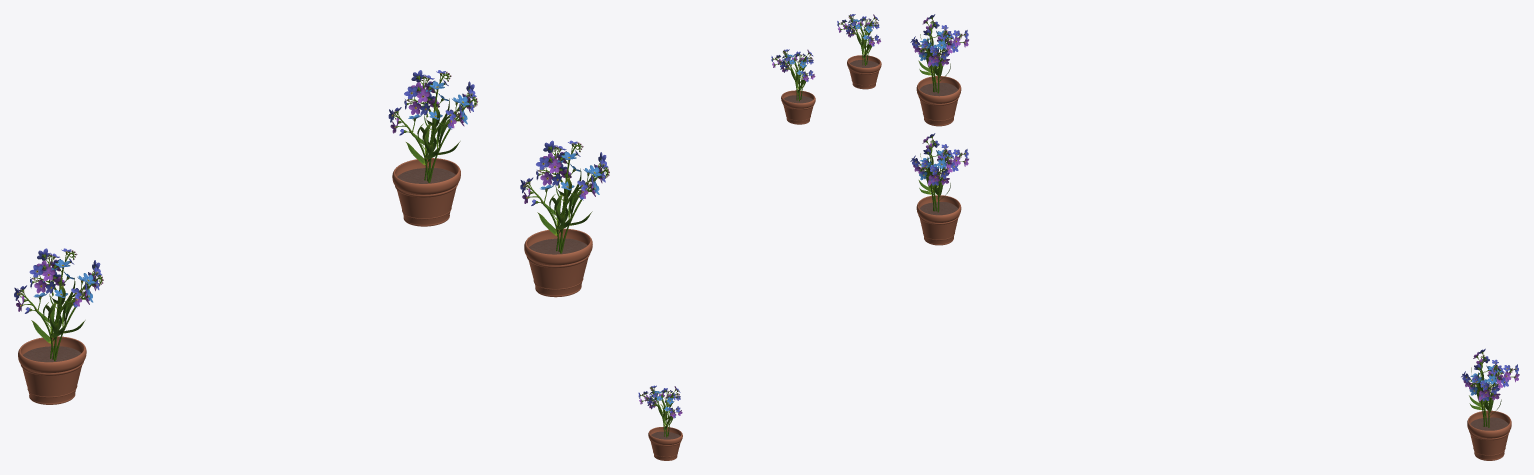
Rendered from Room1-Myosotis.glb.
3 views of the same model, side by side, from view 1: azimuth 30°, elevation 25°; view 2: azimuth 150°, elevation 25°; view 3: azimuth 270°, elevation 25° (orthographic). The views are drawn at different scales.
Visible parts, largest first — view 1: Object006_stebel 1123_0.001, Object006_stebel 1123_0, Object006_stebel 1123_0.002, Plant_Pot_Plant_Pot_M_0.043, Plant_Pot_Plant_Pot_M_0.042, Plant_Pot_Plant_Pot_M_0.044; view 2: Plant_Pot_Plant_Pot_M_0.042, Plant_Pot_Plant_Pot_M_0.043, Plant_Pot_Plant_Pot_M_0.044, Object006_stebel 1123_0, Object006_stebel 1123_0.001, Object006_stebel 1123_0.002; view 3: Object006_stebel 1123_0.002, Object006_stebel 1123_0, Object006_stebel 1123_0.001, Plant_Pot_Plant_Pot_M_0.044, Plant_Pot_Plant_Pot_M_0.042, Plant_Pot_Plant_Pot_M_0.043.
Boxes of the visible parts, left/top/right/bottom form: Object006_stebel 1123_0.001: left=388, top=70, right=477, bottom=182; Object006_stebel 1123_0: left=520, top=140, right=609, bottom=253; Object006_stebel 1123_0.002: left=14, top=248, right=103, bottom=361; Plant_Pot_Plant_Pot_M_0.043: left=392, top=158, right=460, bottom=226; Plant_Pot_Plant_Pot_M_0.042: left=524, top=228, right=592, bottom=297; Plant_Pot_Plant_Pot_M_0.044: left=18, top=336, right=86, bottom=404; Plant_Pot_Plant_Pot_M_0.042: left=781, top=90, right=815, bottom=124; Plant_Pot_Plant_Pot_M_0.043: left=847, top=55, right=881, bottom=89; Plant_Pot_Plant_Pot_M_0.044: left=648, top=426, right=682, bottom=460; Object006_stebel 1123_0: left=771, top=49, right=815, bottom=101; Object006_stebel 1123_0.001: left=837, top=14, right=880, bottom=65; Object006_stebel 1123_0.002: left=638, top=385, right=682, bottom=437; Object006_stebel 1123_0.002: left=1461, top=348, right=1519, bottom=427; Object006_stebel 1123_0: left=910, top=133, right=968, bottom=212; Object006_stebel 1123_0.001: left=910, top=14, right=968, bottom=93; Plant_Pot_Plant_Pot_M_0.044: left=1467, top=410, right=1511, bottom=460; Plant_Pot_Plant_Pot_M_0.042: left=916, top=195, right=961, bottom=245; Plant_Pot_Plant_Pot_M_0.043: left=916, top=76, right=961, bottom=126.
Size of the model in its own units: 4.69 by 12.58 by 16.16.
Materials: 7 (7 with a texture image).
